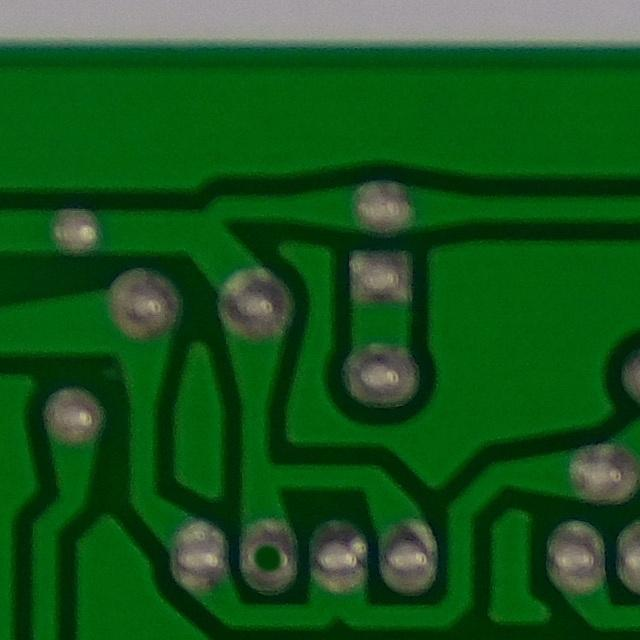missing_hole: (225, 513, 307, 600)
